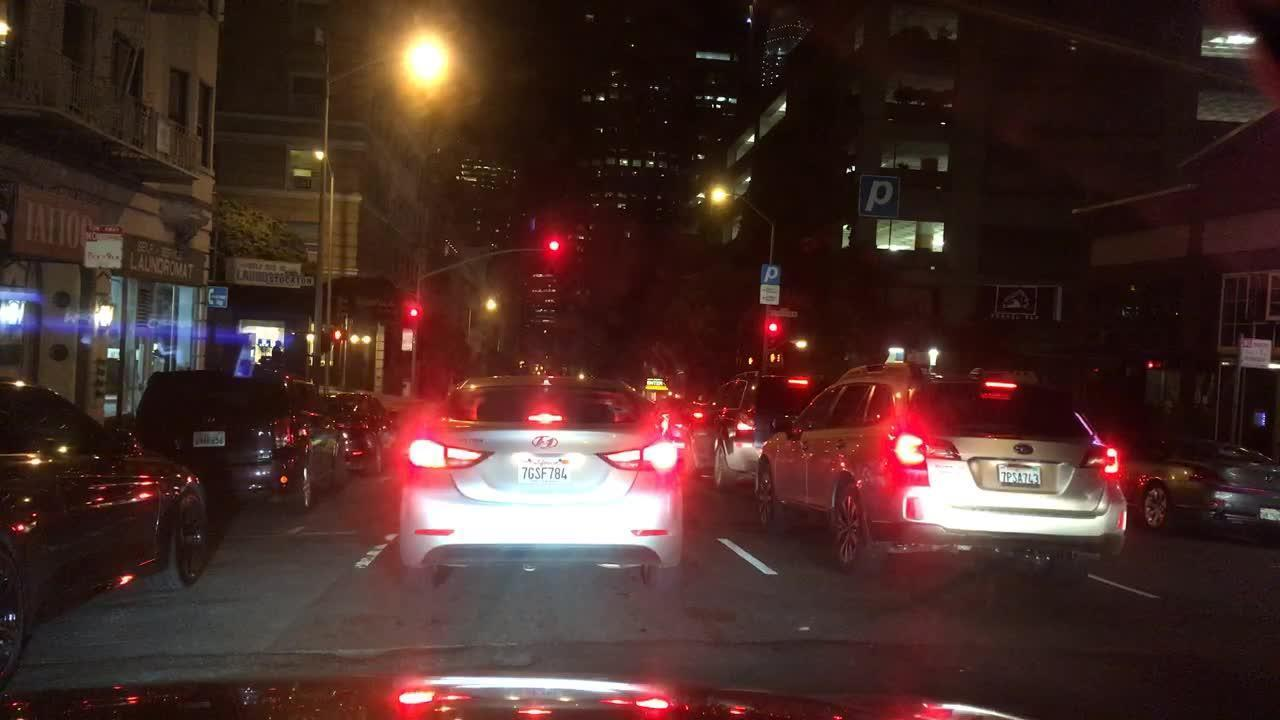Hyundai: (531, 434, 565, 453)
subaru: (1011, 444, 1035, 456)
